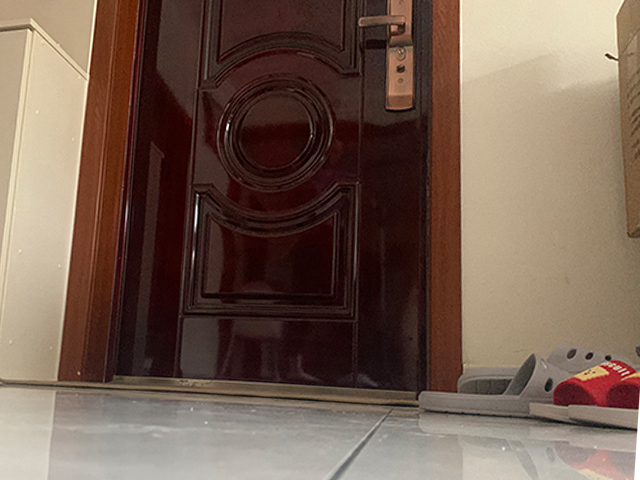carpet: (1, 378, 421, 406)
slippers: (418, 352, 564, 431), (534, 363, 640, 430)
